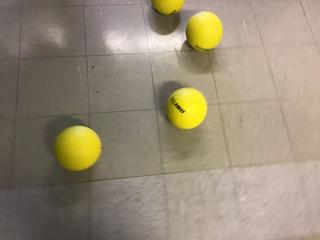power_cell: (50, 123, 104, 174), (165, 85, 211, 134), (185, 9, 224, 52), (150, 1, 186, 17)
